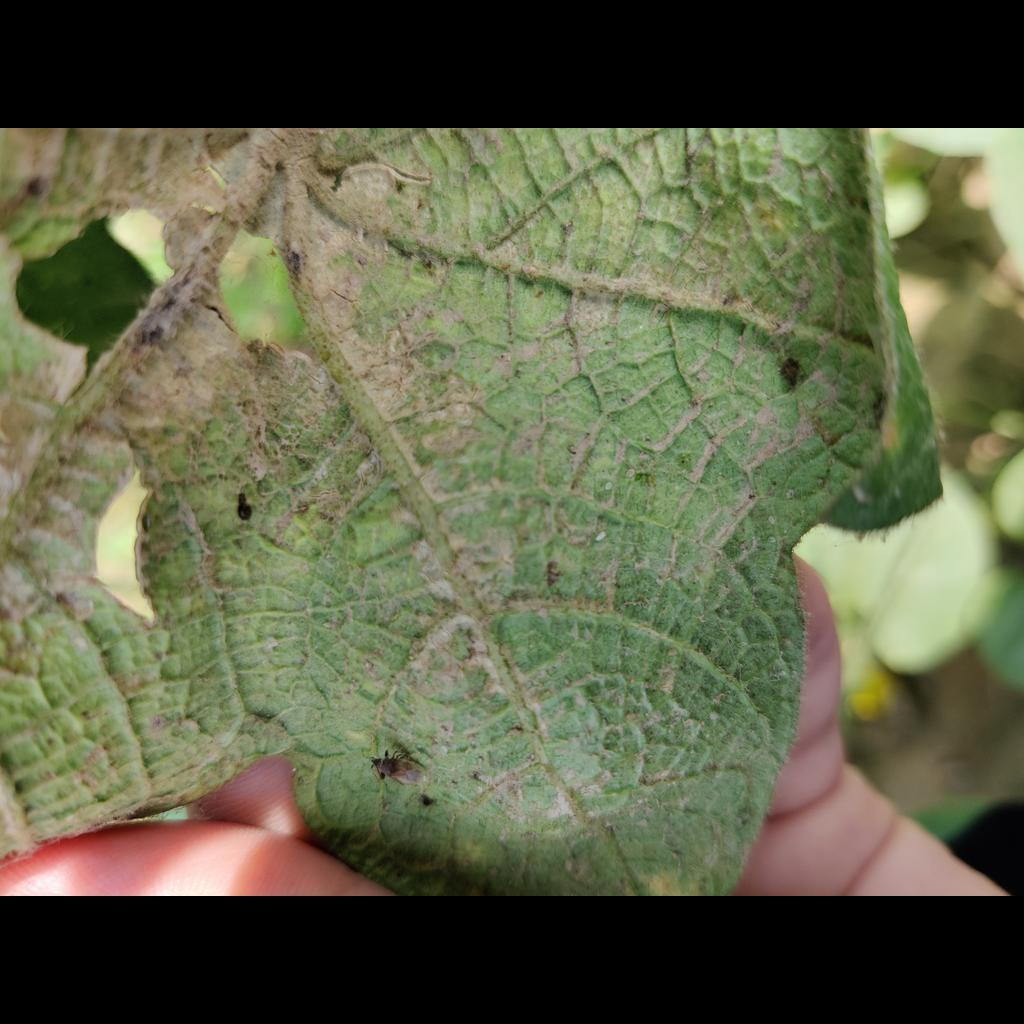adult: (854, 486, 865, 503), (893, 485, 902, 500), (595, 531, 607, 542)
nymph: (626, 468, 634, 478), (708, 713, 718, 721), (768, 516, 776, 525), (786, 489, 794, 498), (604, 484, 613, 490), (768, 536, 776, 542)
